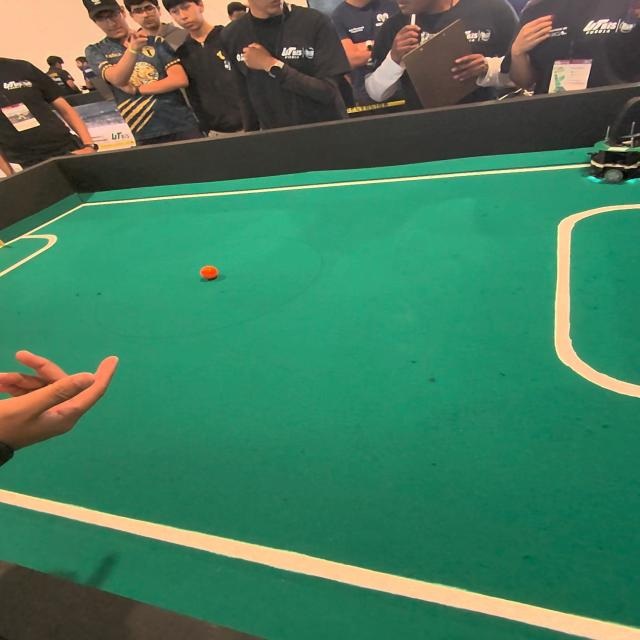Robot: (589, 94, 640, 188)
pelota: (190, 258, 227, 285)
